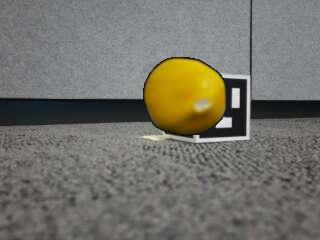lemon: (145, 58, 226, 136)
